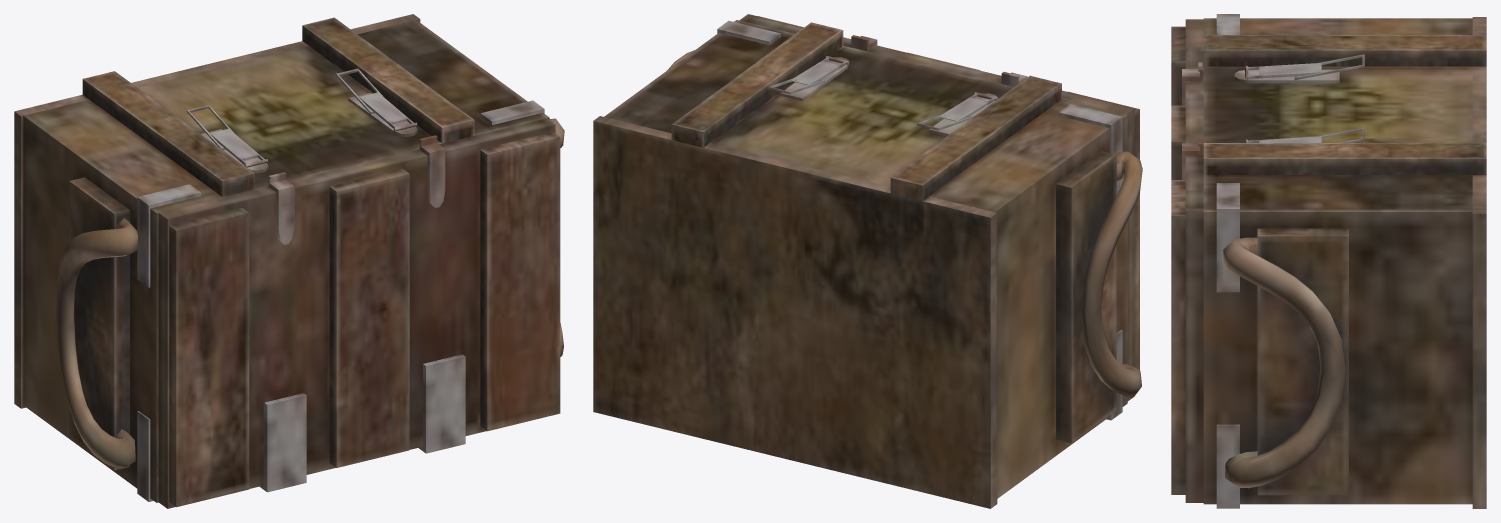
File: ammo_box.glb
3 views of the same model, side by side, from view 1: azimuth 30°, elevation 25°; view 2: azimuth 150°, elevation 25°; view 3: azimuth 270°, elevation 25° (orthographic).
Visible parts, largest first — view 1: defaultMaterial; view 2: defaultMaterial; view 3: defaultMaterial.
Part boxes in pixels (bbox=[...]): defaultMaterial: bbox=[14, 14, 564, 508]; defaultMaterial: bbox=[593, 14, 1142, 508]; defaultMaterial: bbox=[1171, 14, 1486, 508].
Bounding box in the file's own units: 0.9518 × 0.6 × 0.54.
1 material, 1 textured.
